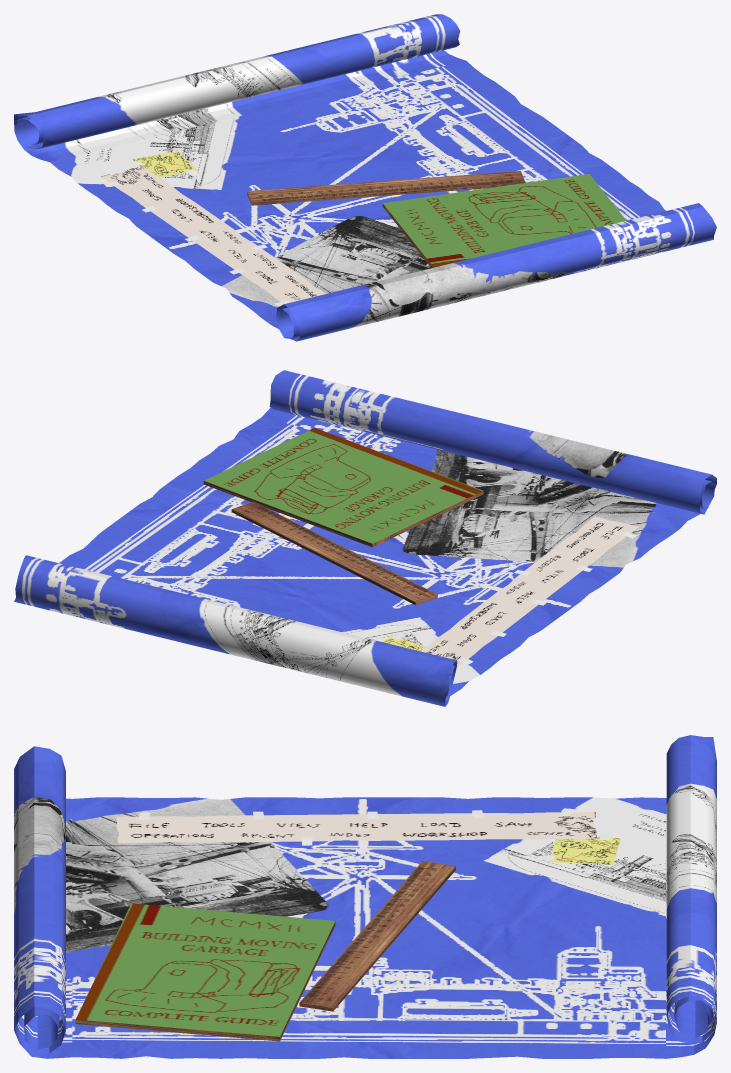
File: serns blueprint tool.fbx
3 views of the same model, one above another, from view 1: azimuth 30°, elevation 25°; view 2: azimuth 150°, elevation 25°; view 3: azimuth 270°, elevation 25° (orthographic). The views are drawn at different scales.
Parts seen in each view (by area): view 1: blueprint tool; view 2: blueprint tool; view 3: blueprint tool.
Boxes of the visible parts, x1,y1,x2,y2 form: blueprint tool: (14, 14, 716, 341); blueprint tool: (14, 370, 716, 706); blueprint tool: (14, 735, 716, 1058).
Bounding box in the file's own units: 342 × 32.24 × 373.
